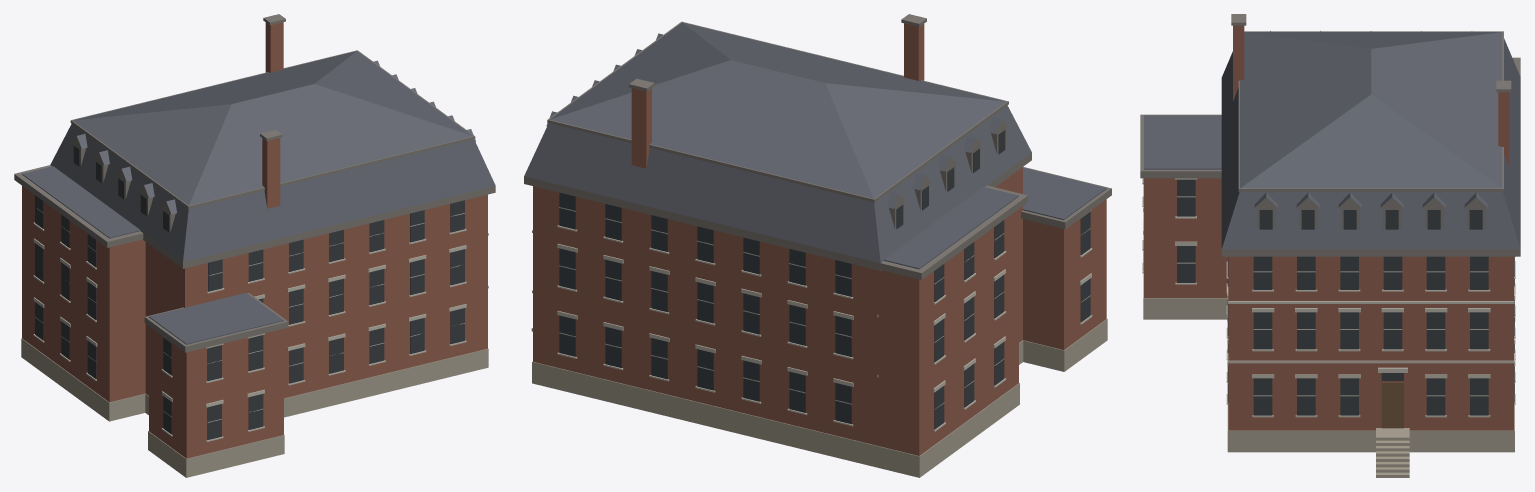
The model's file is marshall_field_house_1905_prairie__draft_1904.glb.
The picture shows the model from 3 angles, left to right: view 1: azimuth 30°, elevation 25°; view 2: azimuth 150°, elevation 25°; view 3: azimuth 270°, elevation 25°; orthographic projection. The views are drawn at different scales.
Visible parts, largest first — view 1: marshall_field_house_1905_prairie__draft_1904; view 2: marshall_field_house_1905_prairie__draft_1904; view 3: marshall_field_house_1905_prairie__draft_1904.
Boxes of the visible parts, x1,y1,x2,y2 form: marshall_field_house_1905_prairie__draft_1904: (14, 14, 495, 477); marshall_field_house_1905_prairie__draft_1904: (524, 14, 1111, 477); marshall_field_house_1905_prairie__draft_1904: (1140, 14, 1520, 477).
Bounding box in the file's own units: 27.15 × 18.67 × 20.3.
